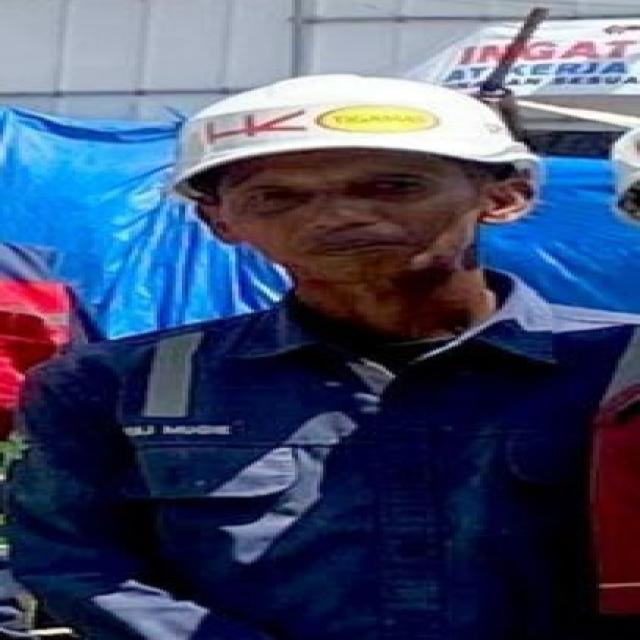safetyhelmet: (157, 71, 551, 269)
